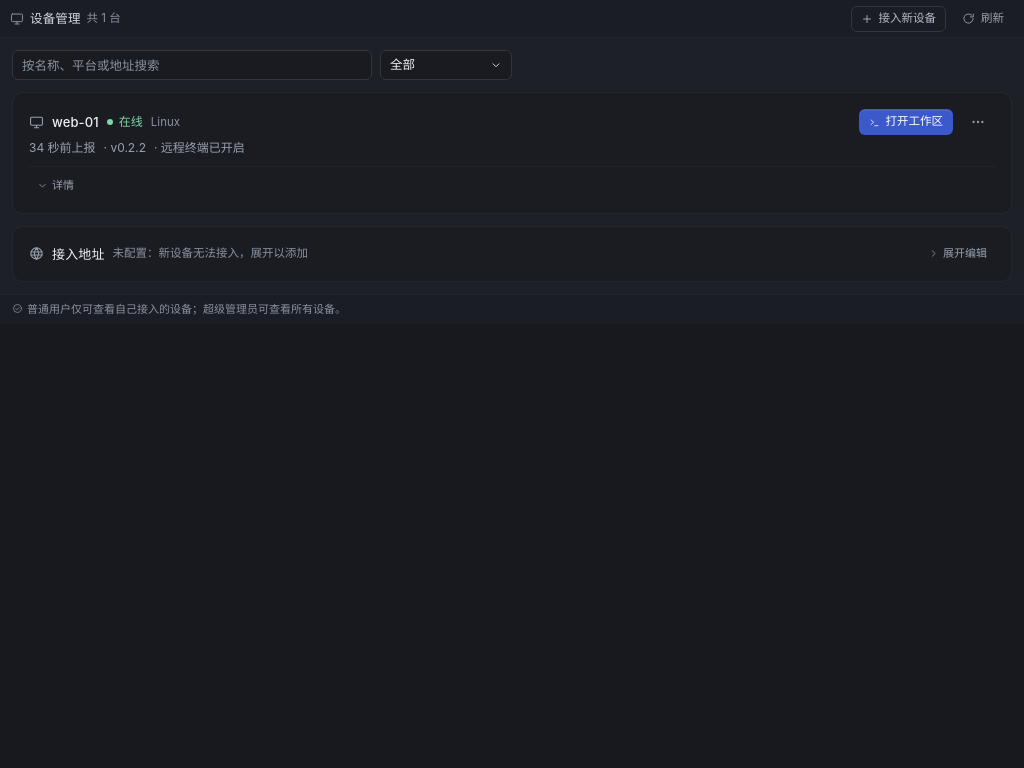
DevicesView MetricsPanel reuse regression › renders trend SVG and sample statistics when expanding metrics in DevicesView
Click the button "详情": x=56, y=186 [29, 175, 82, 197]
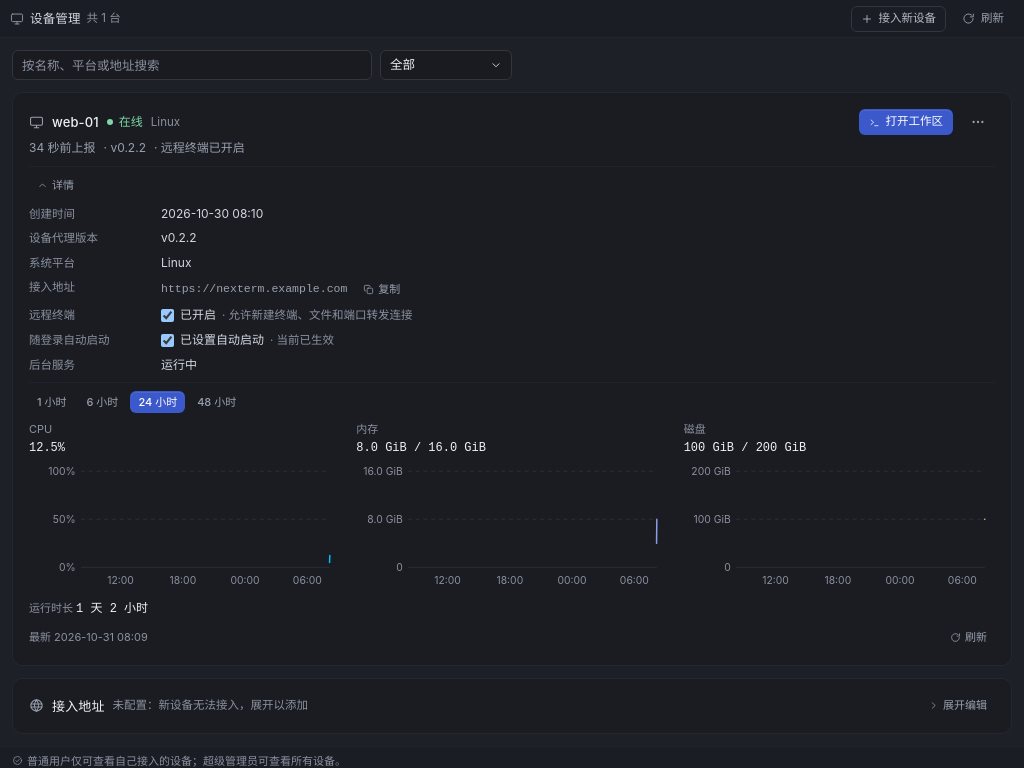
Expected: the element with class "nx-card" shows "12.5%", [29, 441, 65, 455]
